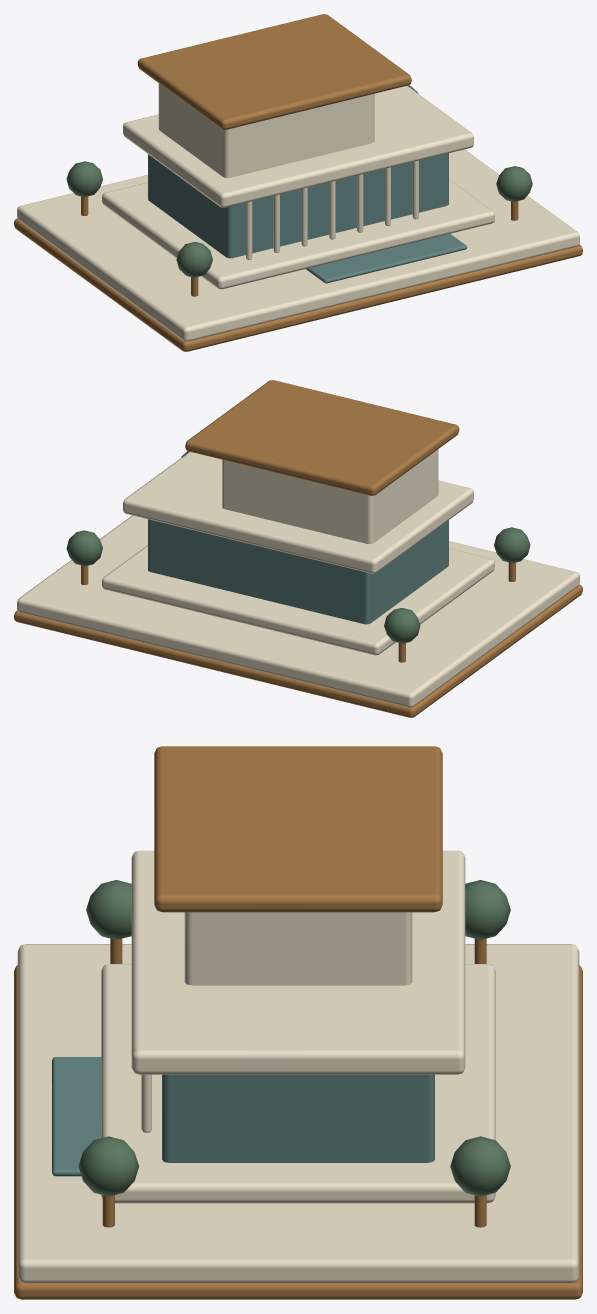
File: villa.glb
The picture shows the model from 3 angles, top to bottom: view 1: azimuth 30°, elevation 25°; view 2: azimuth 150°, elevation 25°; view 3: azimuth 270°, elevation 25°; orthographic projection. The views are drawn at different scales.
Parts seen in each view (by area): view 1: villa; view 2: villa; view 3: villa.
Boxes of the visible parts, bbox=[...] form: villa: bbox=[14, 14, 582, 351]; villa: bbox=[14, 380, 582, 717]; villa: bbox=[14, 746, 582, 1299].
Bounding box in the file's own units: 5.05 × 2.19 × 3.75.
